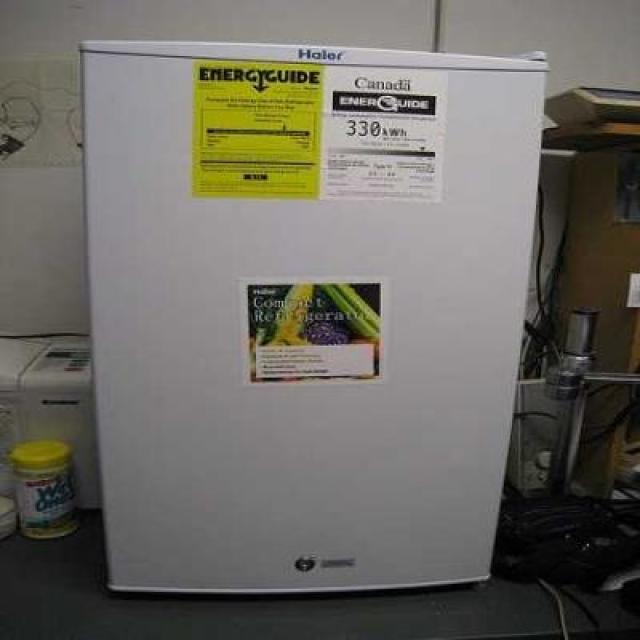refrigerator: (79, 39, 540, 586)
